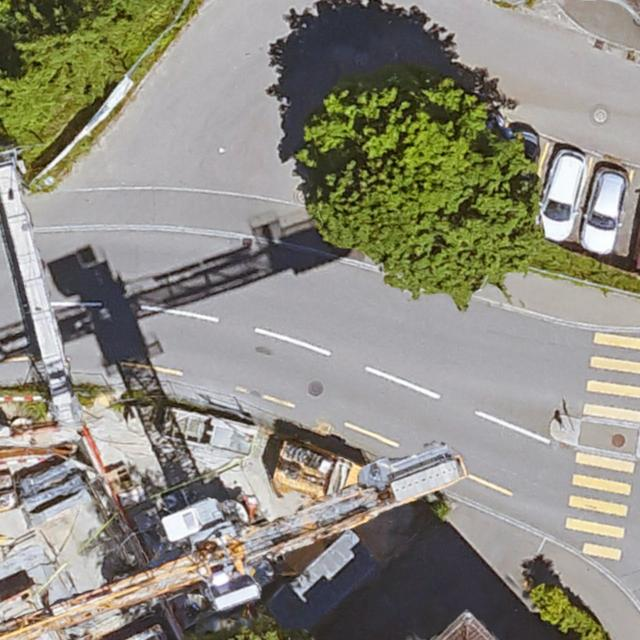tree: (300, 83, 545, 299)
